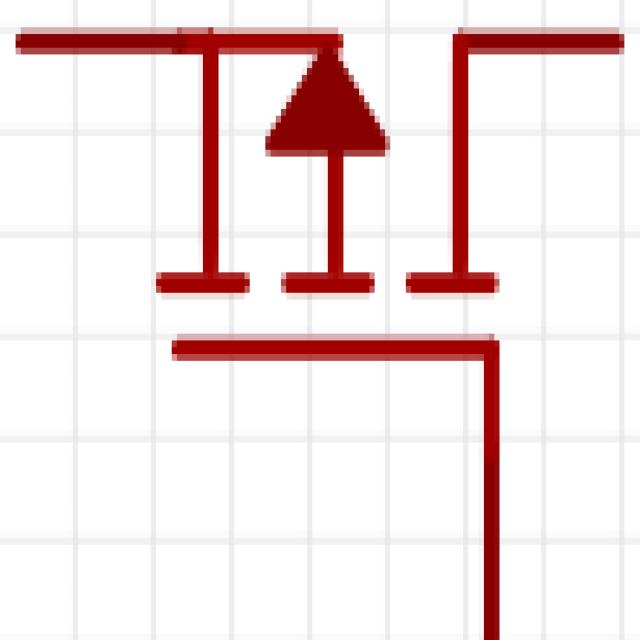pmos: (39, 14, 594, 640)
